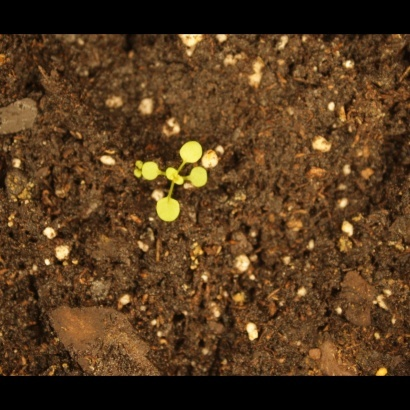leaf: (151, 196, 184, 225), (179, 139, 206, 169), (190, 165, 215, 190), (143, 161, 166, 184), (118, 173, 141, 196), (120, 148, 143, 171), (165, 166, 188, 189)
